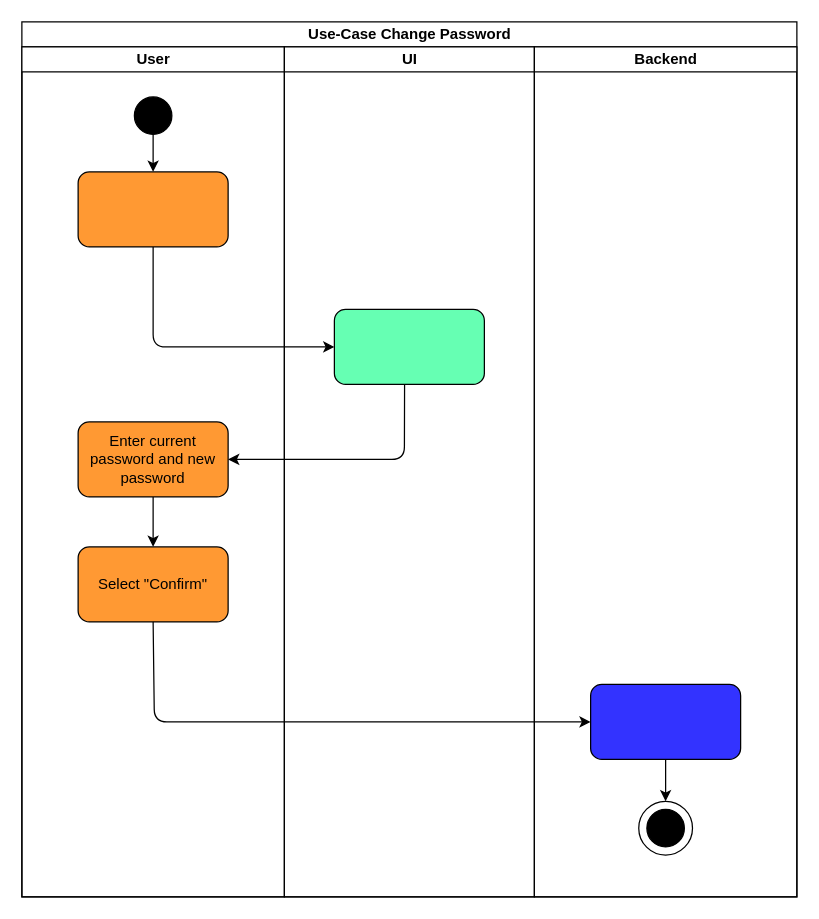
Some shapes in this 819 by 919 pixel diagram are drawn without their labels. The shapes that lost their labels are listed below. From the top down, each one's centre as x and y in pixels, then its label:
the point at 152,209: Select "Change Password"
the point at 408,346: Show "Change Password" window
the point at 665,721: Change password of user in database
